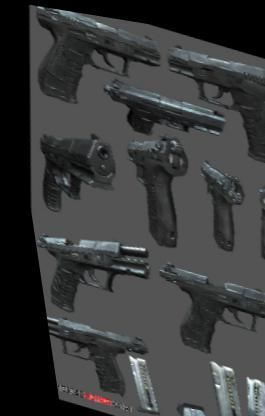pistol: (22, 3, 171, 126), (149, 26, 263, 162), (25, 215, 151, 333), (138, 253, 263, 371), (106, 116, 194, 250), (22, 113, 120, 228), (92, 70, 225, 150), (36, 307, 145, 402), (182, 148, 248, 249), (242, 172, 263, 257)
